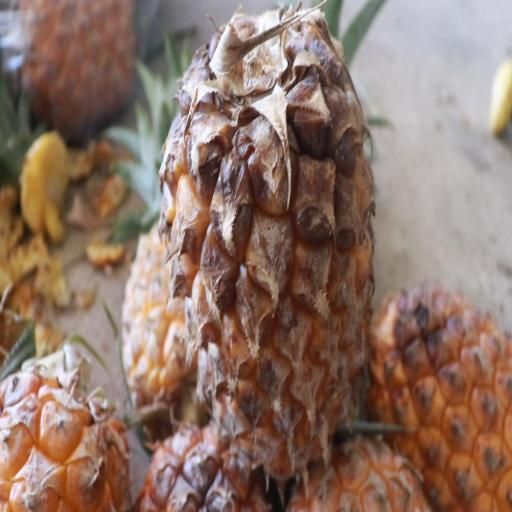Pineapple - v8 v1: (157, 0, 386, 501), (366, 284, 512, 512)
